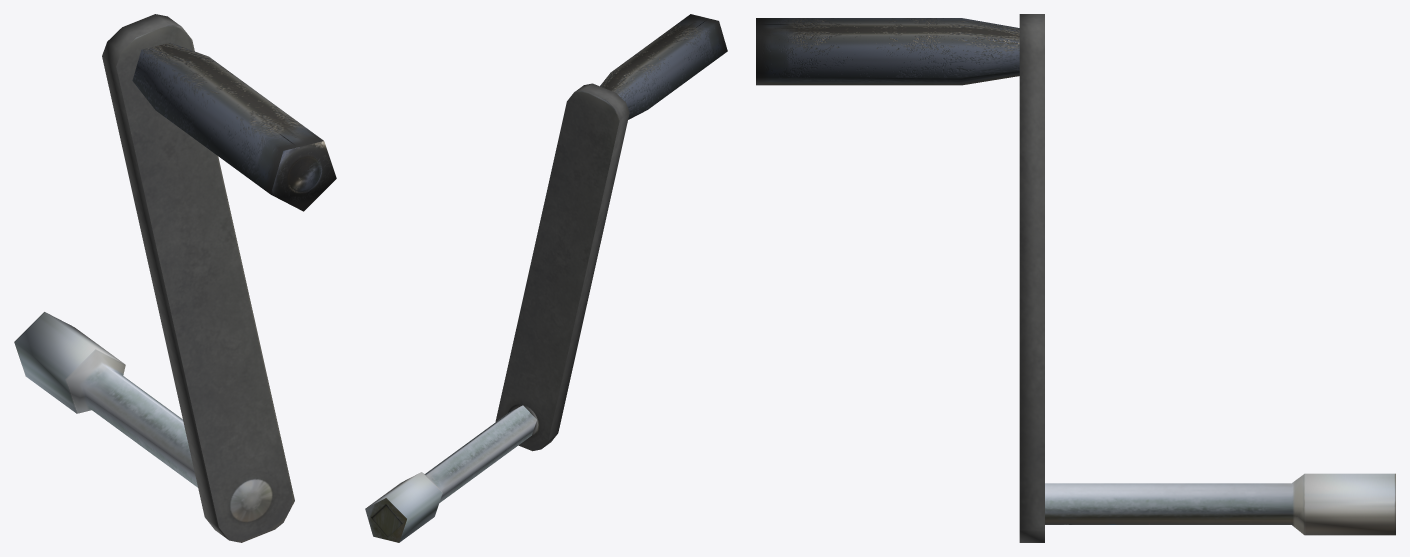
File: Crank.fbx
3 views of the same model, side by side, from view 1: azimuth 30°, elevation 25°; view 2: azimuth 150°, elevation 25°; view 3: azimuth 270°, elevation 25° (orthographic). The views are drawn at different scales.
Visible parts, largest first — view 1: CrankLow; view 2: CrankLow; view 3: CrankLow.
Part boxes in pixels (box(x1,y1,x2,y2)): CrankLow: box(14, 14, 336, 542); CrankLow: box(365, 14, 727, 542); CrankLow: box(756, 14, 1395, 542).
Bounding box in the file's own units: 68.62 × 197 × 238.
